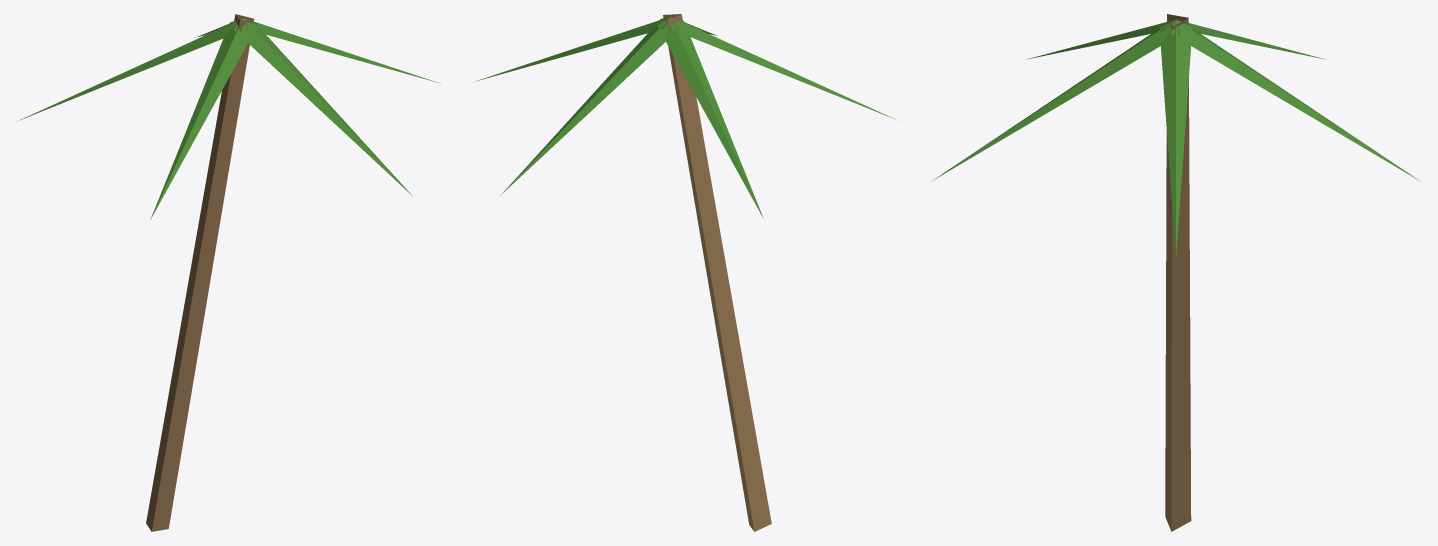
Rendered from palmier_loin.glb.
3 views of the same model, side by side, from view 1: azimuth 30°, elevation 25°; view 2: azimuth 150°, elevation 25°; view 3: azimuth 270°, elevation 25° (orthographic). The views are drawn at different scales.
Visible parts, largest first — view 1: palmier_loin; view 2: palmier_loin; view 3: palmier_loin.
Part boxes in pixels (x1,y1,x2,y2): palmier_loin: (16, 14, 440, 531); palmier_loin: (475, 14, 898, 531); palmier_loin: (931, 14, 1420, 531).
Size of the model in its own units: 9.05 by 11.79 by 9.51.
Materials: 1 (1 with a texture image).
